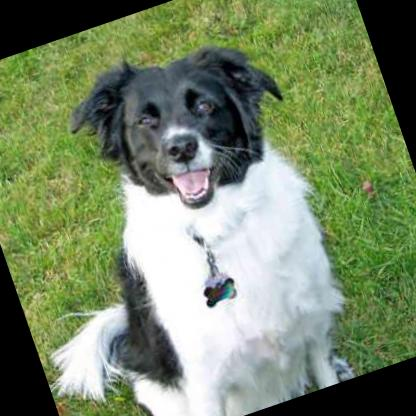Border_collie: (0, 15, 374, 416)
